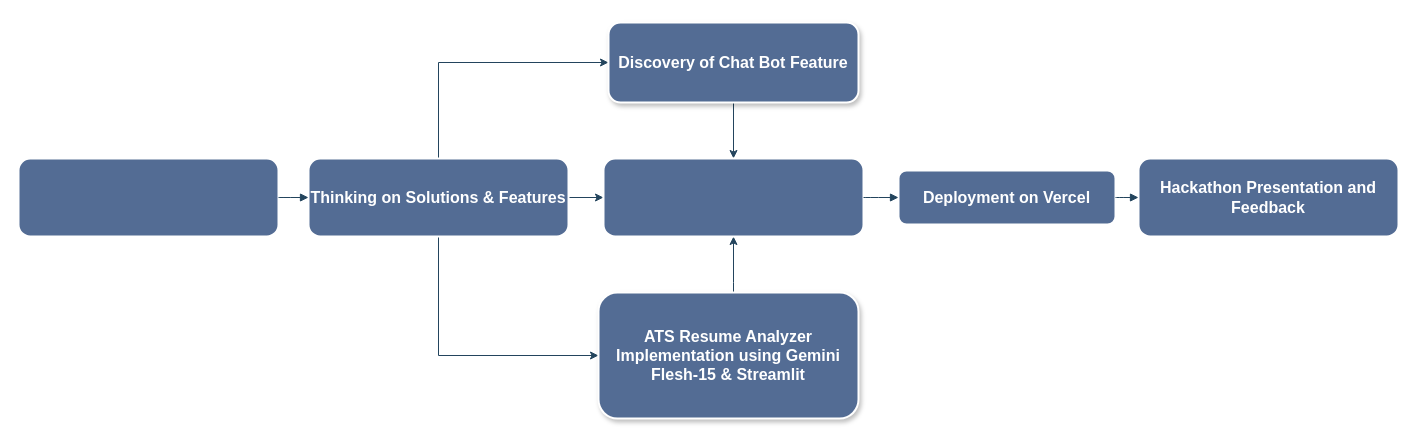
Image size: 1416x443. Some labels were removed from this diagram. The centre of each missing label's shape, as x and y in pixels:
Backend Integration with Supabase: [733,197]
Initial Project Setup: Understand the Problem: [148,197]
